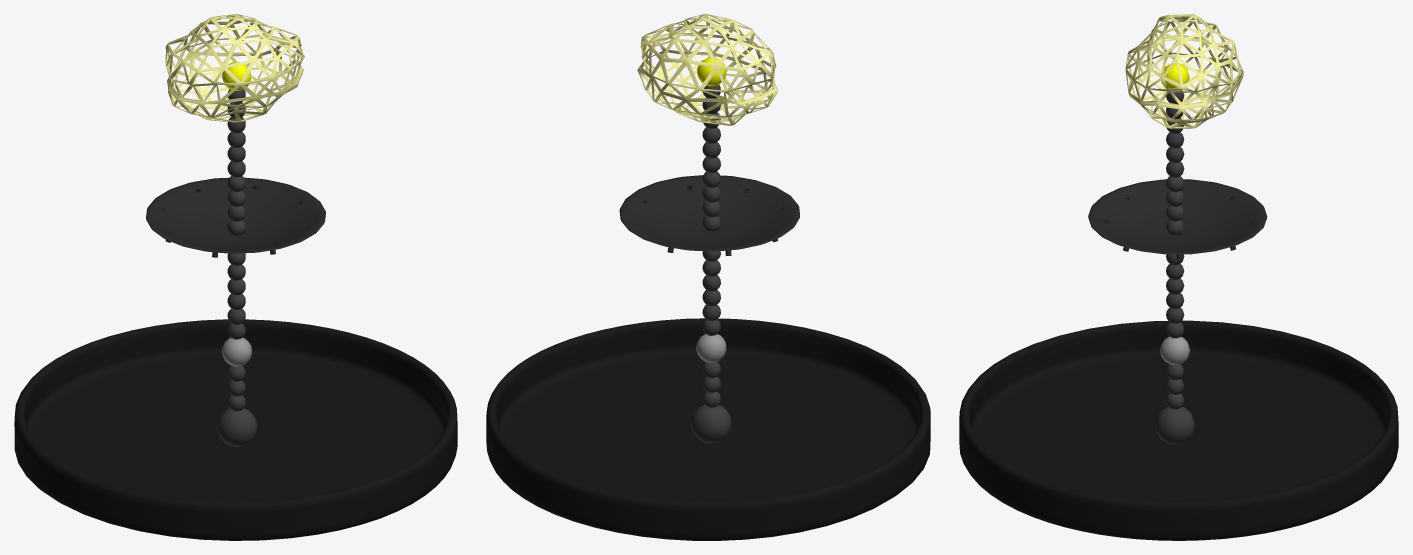
Rendered from le Nuage D'oort.fbx.
3 views of the same model, side by side, from view 1: azimuth 30°, elevation 25°; view 2: azimuth 150°, elevation 25°; view 3: azimuth 270°, elevation 25° (orthographic).
Parts seen in each view (by area): view 1: Cylinder001, Line001, GeoSphere001, Sphere023, Sphere004; view 2: Cylinder001, Line001, GeoSphere001, Sphere023, Sphere004; view 3: Cylinder001, Line001, GeoSphere001, Sphere023, Sphere004.
Part boxes in pixels (x1,y1,x2,y2): Cylinder001: (14, 319, 457, 540); Line001: (146, 177, 325, 257); GeoSphere001: (165, 14, 304, 122); Sphere023: (217, 408, 257, 446); Sphere004: (222, 337, 251, 366); Cylinder001: (486, 318, 930, 540); Line001: (619, 175, 799, 255); GeoSphere001: (637, 14, 777, 125); Sphere023: (691, 404, 731, 443); Sphere004: (696, 334, 726, 362); Cylinder001: (959, 320, 1398, 540); Line001: (1088, 179, 1267, 259); GeoSphere001: (1125, 14, 1243, 128); Sphere023: (1155, 406, 1195, 444); Sphere004: (1160, 336, 1190, 365).
Size of the model in its own units: 47.68 by 51.1 by 47.68.
